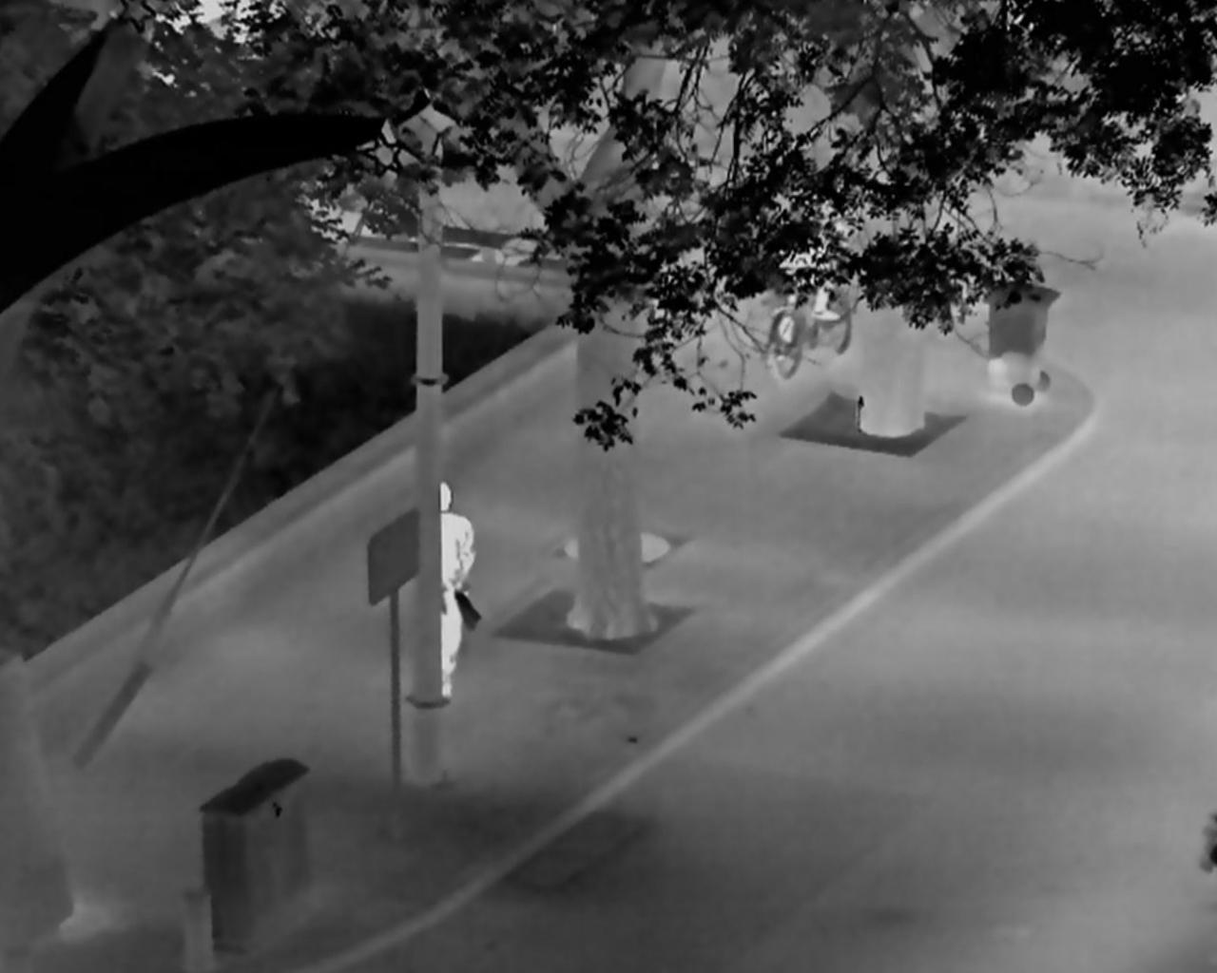person: (776, 185, 846, 353), (439, 480, 476, 701)
